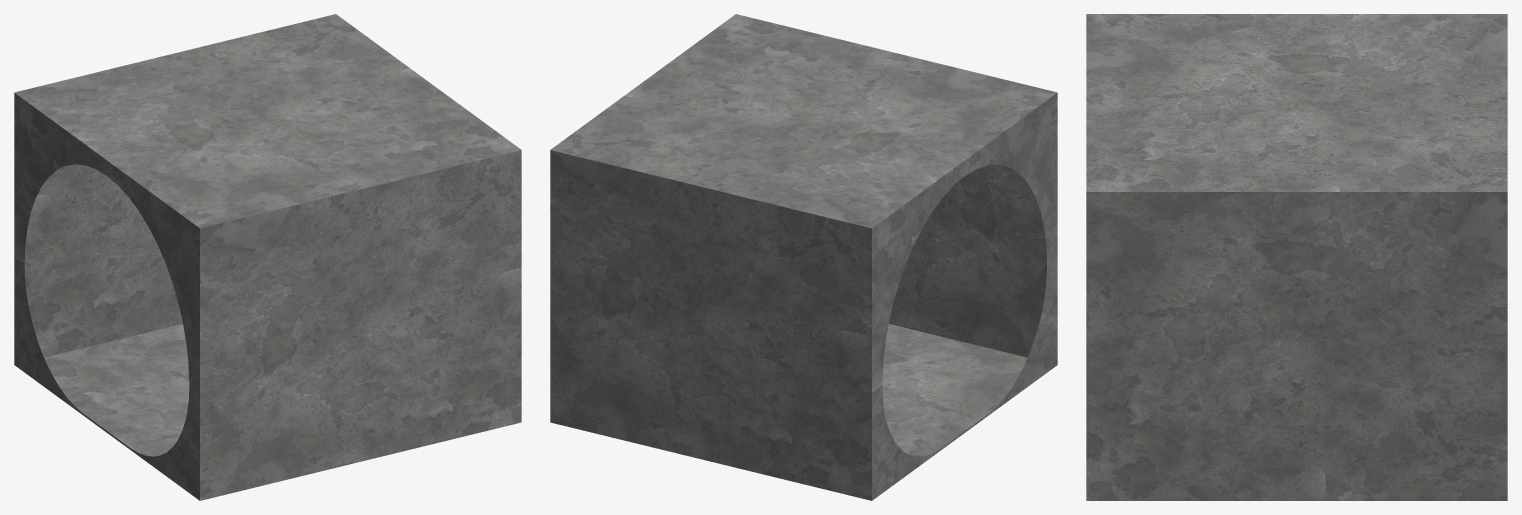
Rendered from room_canal_hole.obj.
3 renders of one model, left to right at view 1: azimuth 30°, elevation 25°; view 2: azimuth 150°, elevation 25°; view 3: azimuth 270°, elevation 25°, orthographic. The views are drawn at different scales.
Parts seen in each view (by area): view 1: soba_kanal_Cube.007; view 2: soba_kanal_Cube.007; view 3: soba_kanal_Cube.007.
Part boxes in pixels (bbox=[...]): soba_kanal_Cube.007: bbox=[14, 14, 521, 500]; soba_kanal_Cube.007: bbox=[550, 14, 1057, 500]; soba_kanal_Cube.007: bbox=[1086, 14, 1507, 500].
Bounding box in the file's own units: 4.51 × 3.65 × 4.51.
